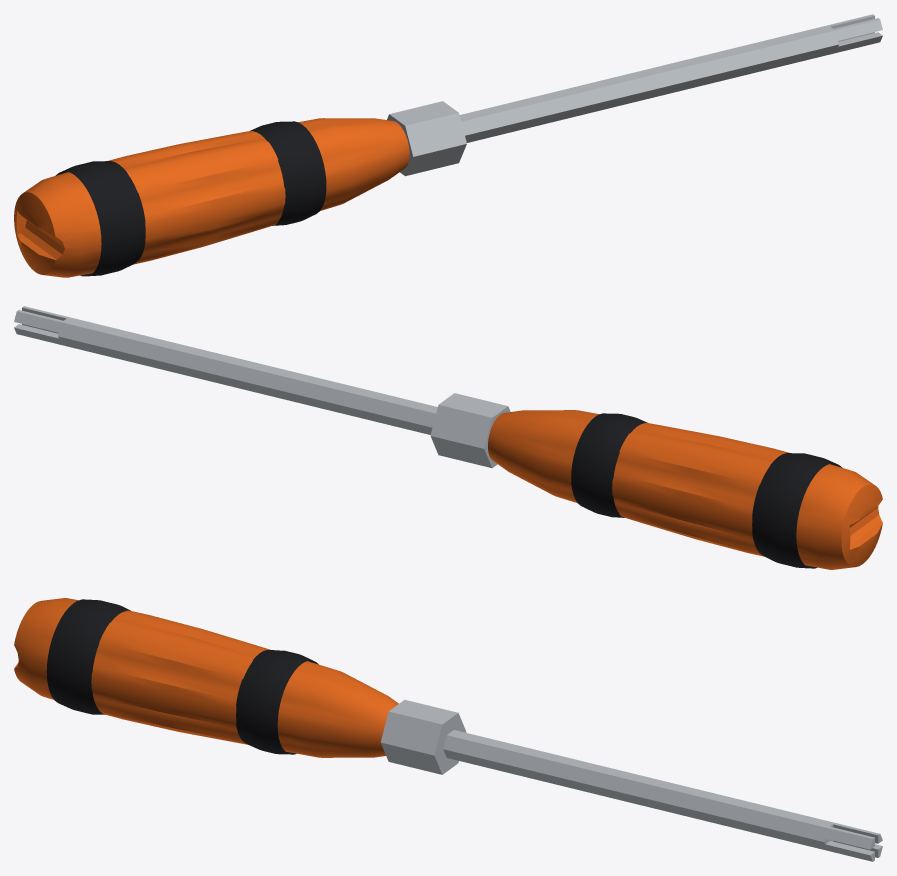
The model's file is screwdriver.glb.
The picture shows the model from 3 angles, top to bottom: view 1: azimuth 30°, elevation 25°; view 2: azimuth 150°, elevation 25°; view 3: azimuth 330°, elevation 25°; orthographic projection.
Parts seen in each view (by area): view 1: driver_handle, driver_shaft, driver_grip, driver_grip2, driver_bolster, driver_tip; view 2: driver_handle, driver_shaft, driver_grip, driver_grip2, driver_bolster, driver_tip; view 3: driver_handle, driver_shaft, driver_grip, driver_grip2, driver_bolster, driver_tip.
Boxes of the visible parts, x1,y1,x2,y2 form: driver_handle: [14, 118, 409, 277]; driver_shaft: [459, 25, 838, 142]; driver_grip: [56, 161, 145, 276]; driver_grip2: [250, 121, 326, 225]; driver_bolster: [387, 101, 466, 176]; driver_tip: [828, 14, 882, 52]; driver_handle: [488, 410, 882, 569]; driver_shaft: [58, 317, 437, 434]; driver_grip: [752, 453, 842, 568]; driver_grip2: [571, 413, 647, 517]; driver_bolster: [430, 393, 510, 468]; driver_tip: [14, 306, 68, 344]; driver_handle: [14, 598, 398, 757]; driver_shaft: [443, 730, 834, 850]; driver_grip: [46, 599, 130, 714]; driver_grip2: [236, 650, 318, 754]; driver_bolster: [380, 699, 466, 774]; driver_tip: [825, 823, 882, 861].
Bounding box in the file's own units: 0.189 × 0.0218 × 0.0218.
